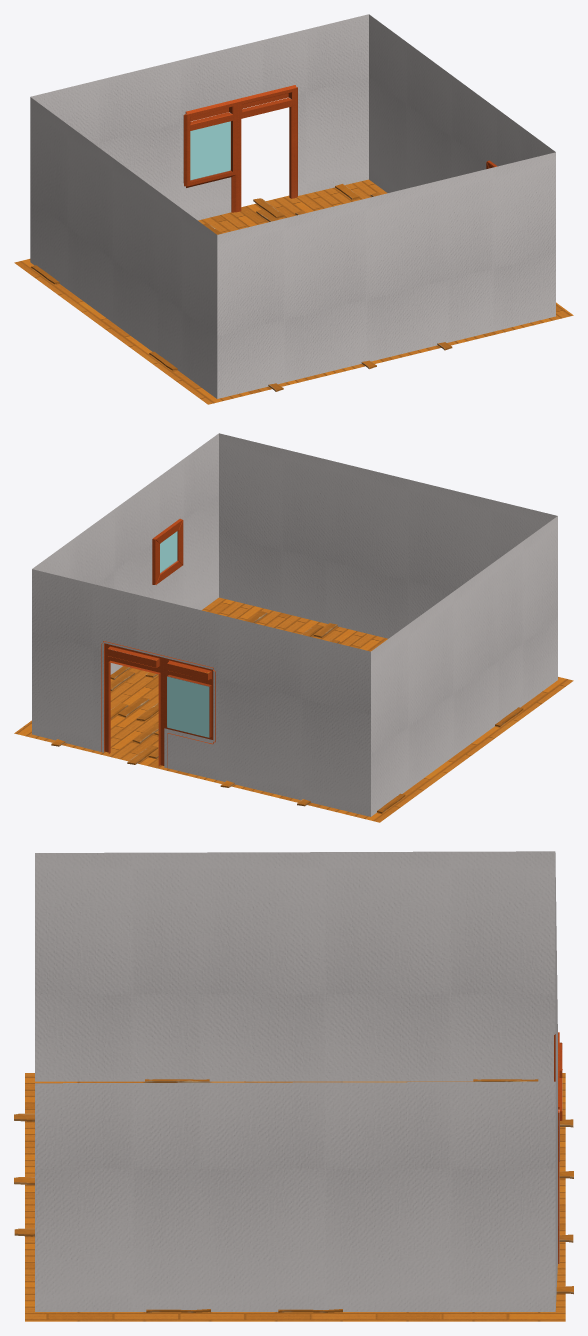
File: Tembok.fbx
The picture shows the model from 3 angles, top to bottom: view 1: azimuth 30°, elevation 25°; view 2: azimuth 150°, elevation 25°; view 3: azimuth 270°, elevation 25°; orthographic projection. The views are drawn at different scales.
Parts seen in each view (by area): view 1: Tembok; view 2: Tembok; view 3: Tembok.
Part boxes in pixels (left/top/right/bottom): Tembok: left=14, top=14, right=573, bottom=404; Tembok: left=14, top=433, right=573, bottom=822; Tembok: left=14, top=851, right=573, bottom=1321.
Bounding box in the file's own units: 27.59 × 11.97 × 26.27.
